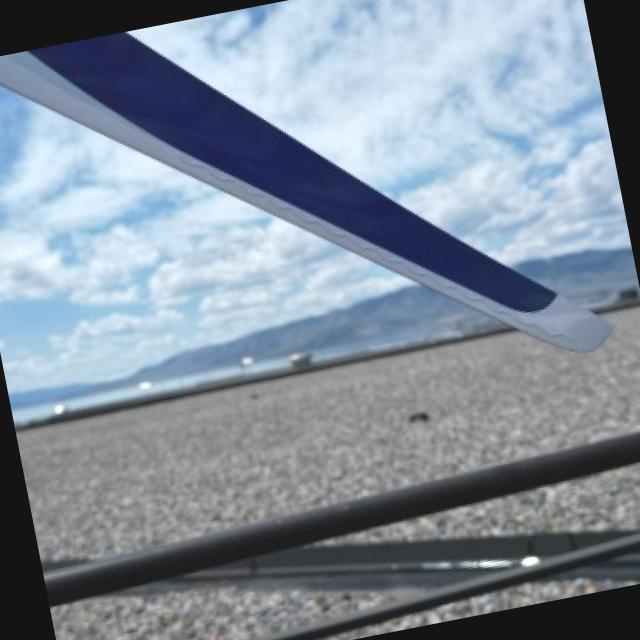healthy: (0, 32, 605, 349), (50, 583, 393, 640)
